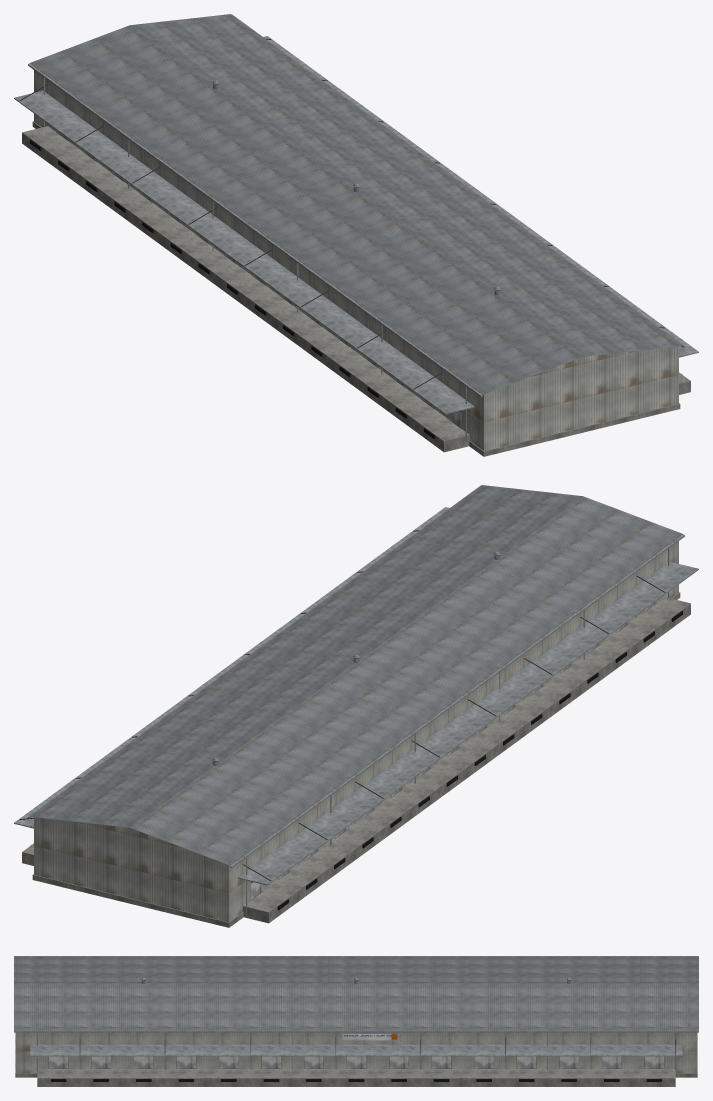
File: wh_ramp.glb
The picture shows the model from 3 angles, top to bottom: view 1: azimuth 30°, elevation 25°; view 2: azimuth 150°, elevation 25°; view 3: azimuth 270°, elevation 25°; orthographic projection. The views are drawn at different scales.
Parts seen in each view (by area): view 1: wh_ramp; view 2: wh_ramp; view 3: wh_ramp.
Boxes of the visible parts, x1,y1,x2,y2 form: wh_ramp: [14, 14, 698, 456]; wh_ramp: [14, 485, 698, 927]; wh_ramp: [14, 956, 698, 1086].
Size of the model in its own units: 31.2 by 9.9 by 96.6.
1 material, 1 textured.
